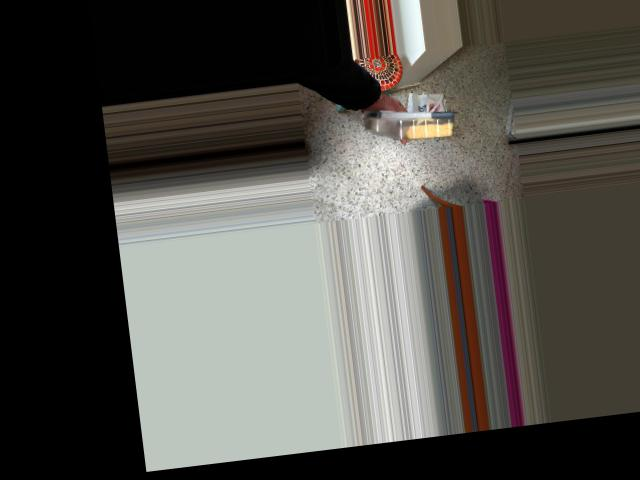cheese: (375, 53, 461, 169)
